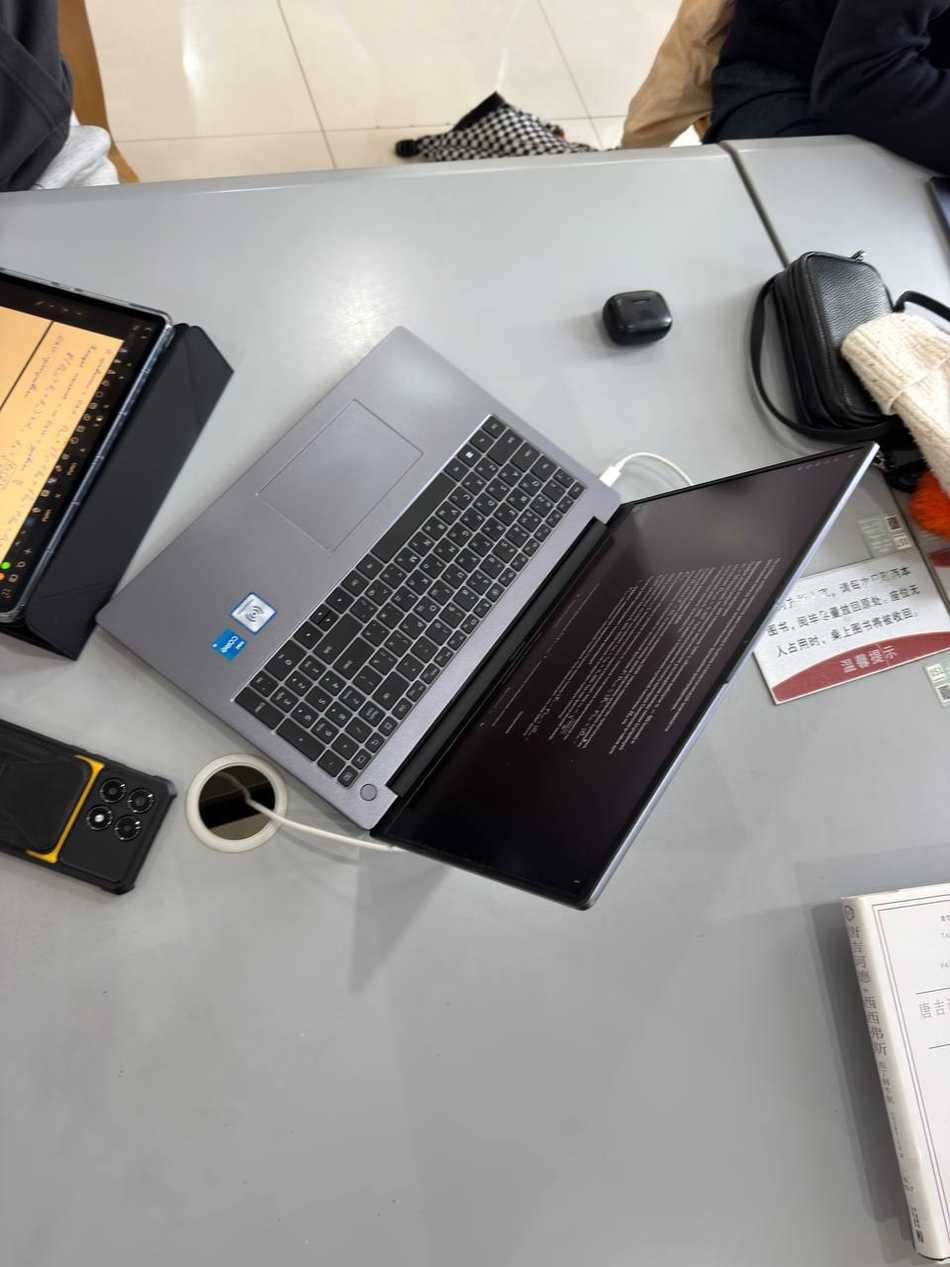cell phone: (0, 717, 178, 895)
laptop: (95, 324, 882, 910)
